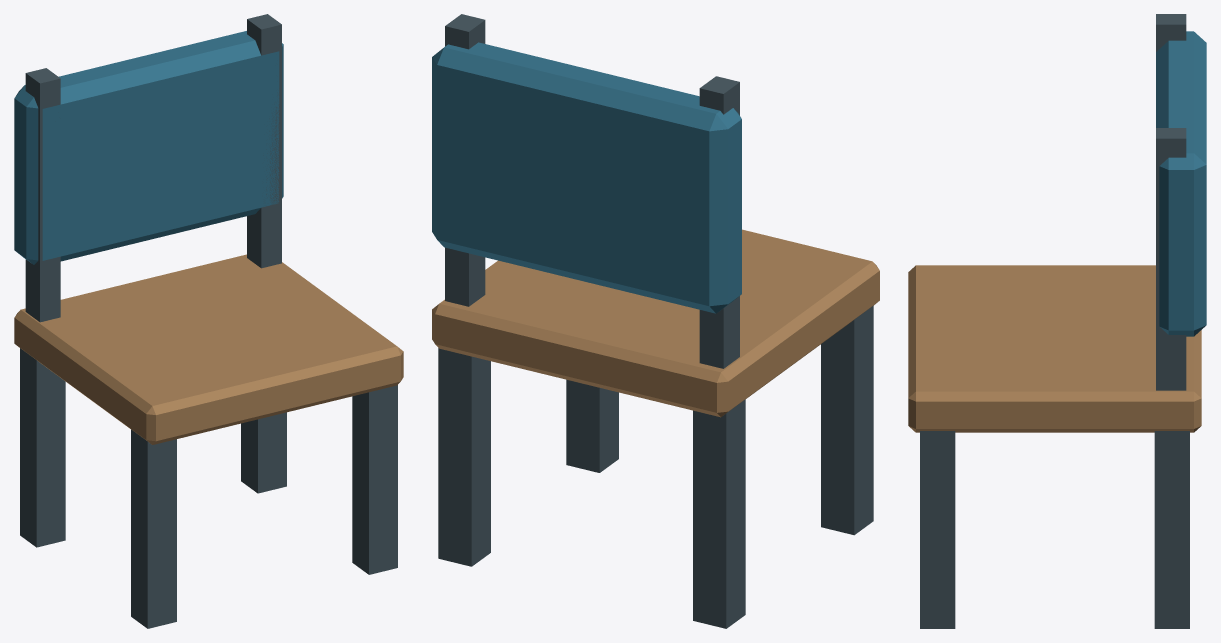
The model's file is school_chair.glb.
3 renders of one model, left to right at view 1: azimuth 30°, elevation 25°; view 2: azimuth 150°, elevation 25°; view 3: azimuth 270°, elevation 25°, orthographic. The views are drawn at different scales.
Visible parts, largest first — view 1: school_chair; view 2: school_chair; view 3: school_chair.
Boxes of the visible parts, bbox=[...] form: school_chair: bbox=[14, 14, 403, 628]; school_chair: bbox=[432, 14, 879, 628]; school_chair: bbox=[908, 14, 1206, 628].
Bounding box in the file's own units: 0.62 × 1.06 × 0.59.
